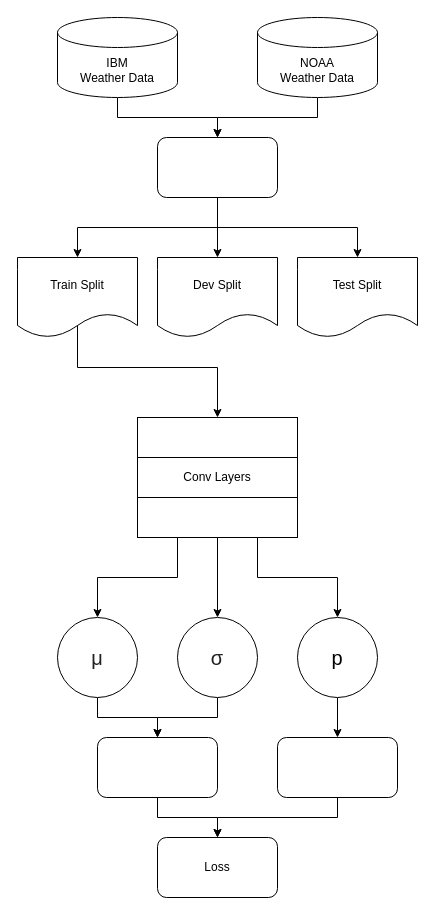
Image size: 435x915. Some labels were removed from this diagram. Here are the shapes that lost their labels. From the top down, the centre of each, then its label:
At (217,167): "Combine, filter, and sample".
At (217,437): "PCA".
At (217,517): "Dense Layers".
At (157,767): "Categorical Cross Entropy".
At (337,767): "Cross Entropy".
